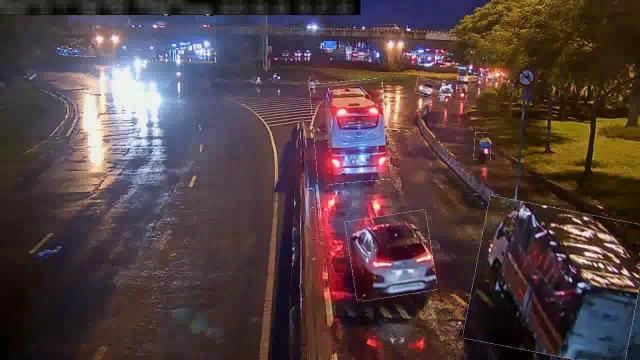Bike: (474, 132, 492, 160)
Bus: (312, 80, 388, 184)
Car: (348, 212, 434, 300), (414, 78, 442, 98)
Truck: (468, 202, 640, 360)
